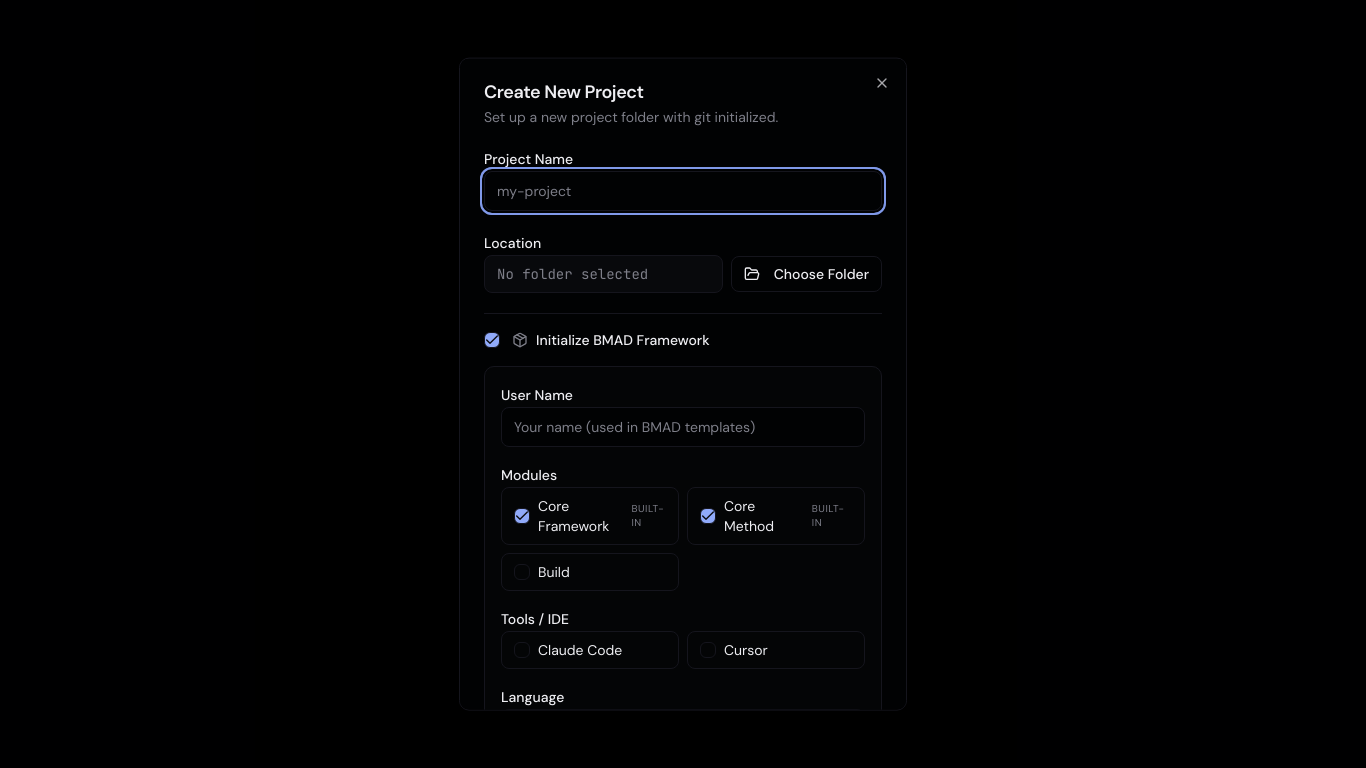
Test: NewProjectDialog › should have Create Project button disabled until both fields are filled
// Type a project name
In the field with placeholder "my-project": (683, 191) [484,171,882,211], type "test-project"
(page scrolled)
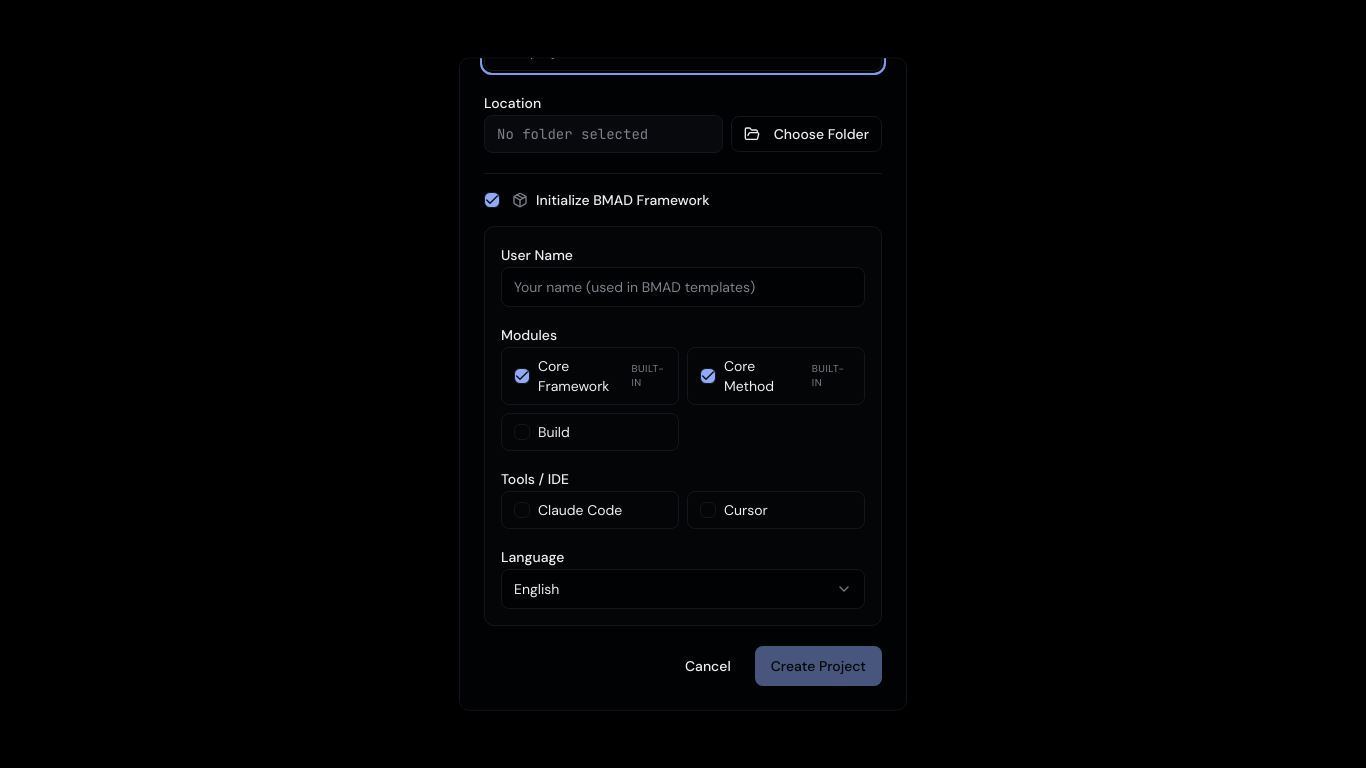
Expected: the button "Create Project" is disabled, [755,646,882,686]
